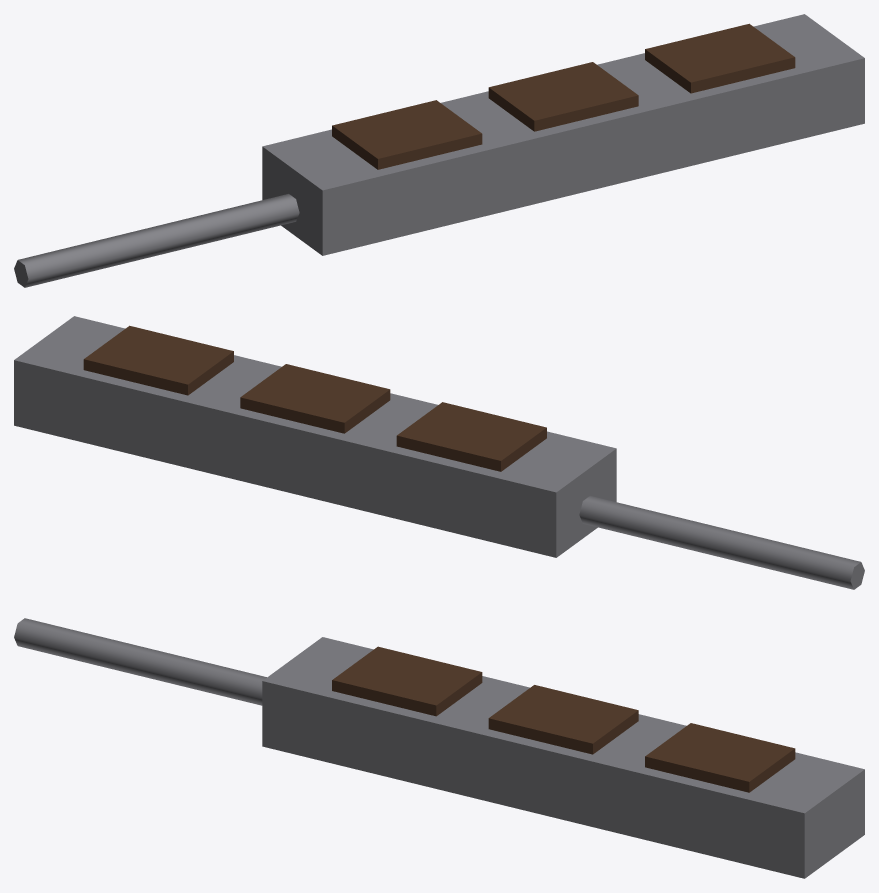
File: PRP_P0_Power_Strip_A.obj
3 views of the same model, one above another, from view 1: azimuth 30°, elevation 25°; view 2: azimuth 150°, elevation 25°; view 3: azimuth 330°, elevation 25° (orthographic).
Visible parts, largest first — view 1: body, cable, socket_2, socket_0, socket_1; view 2: body, cable, socket_2, socket_0, socket_1; view 3: body, cable, socket_0, socket_2, socket_1.
Part boxes in pixels (x1,y1,x2,y2): body: (262,14,864,255); cable: (14,194,299,287); socket_2: (645,23,795,93); socket_0: (332,100,482,169); socket_1: (488,62,638,131); body: (14,316,616,557); cable: (579,496,864,589); socket_2: (83,325,233,395); socket_0: (396,402,546,471); socket_1: (240,364,390,433); body: (262,637,864,878); cable: (14,618,266,705); socket_0: (332,646,482,716); socket_2: (645,723,795,792); socket_1: (488,685,638,754).
Size of the model in its own units: 0.39 by 0.035 by 0.05.
